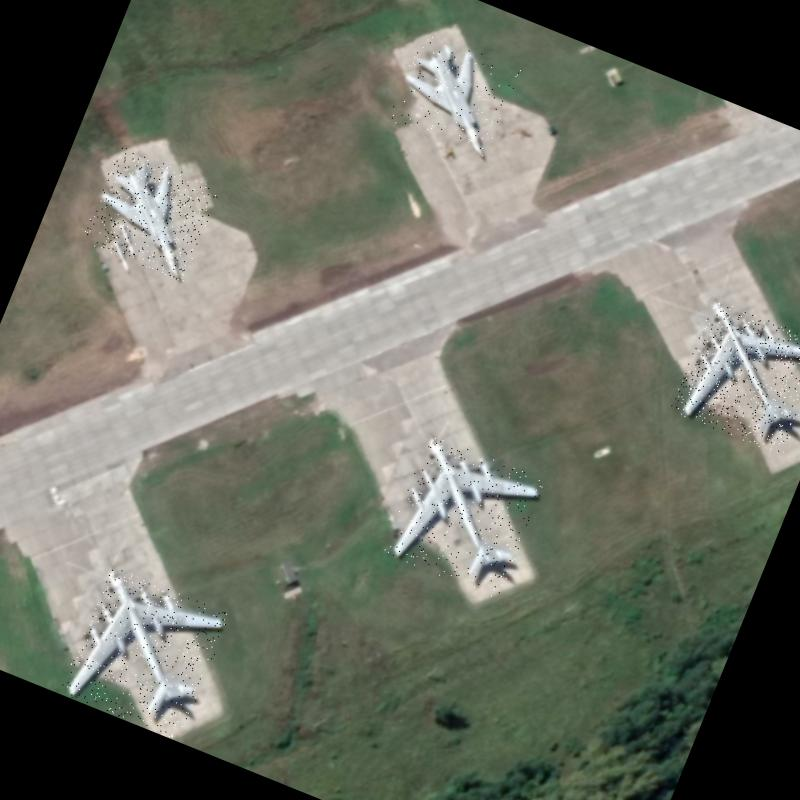A12: (80, 145, 221, 282), (386, 29, 521, 160)
A17: (59, 565, 231, 741), (381, 434, 546, 600), (669, 298, 800, 456)
